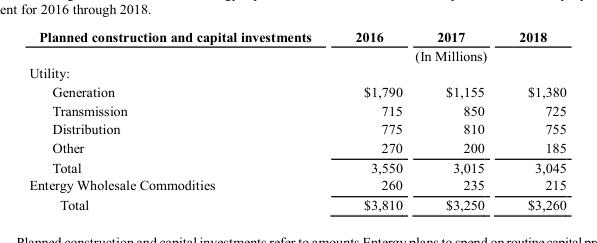table: (28, 29, 565, 212)
table column: (28, 29, 332, 212), (332, 29, 419, 212), (419, 29, 501, 212), (501, 29, 565, 212)
table column header: (28, 29, 565, 63)
table projected row header: (28, 63, 565, 81)
table row: (28, 137, 565, 157), (28, 81, 565, 100), (28, 100, 565, 119), (28, 175, 565, 194), (28, 45, 565, 63), (28, 63, 565, 81), (28, 119, 565, 137), (28, 157, 565, 175), (28, 194, 565, 212), (28, 29, 565, 45)
table spanning cell: (28, 29, 332, 63), (332, 45, 565, 63)
